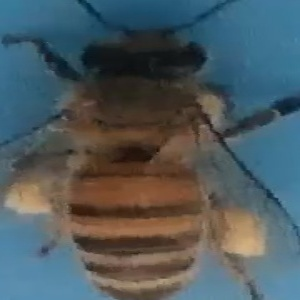bee: (5, 1, 297, 300)
